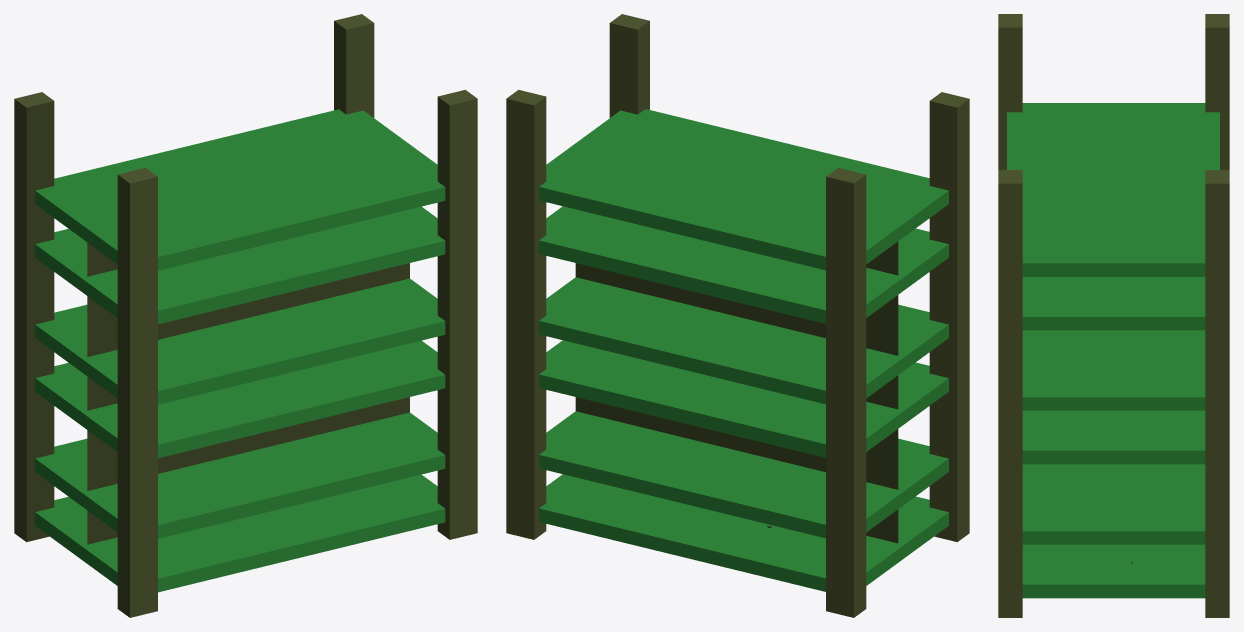
Rendered from almacen_vacio.fbx.
The picture shows the model from 3 angles, left to right: view 1: azimuth 30°, elevation 25°; view 2: azimuth 150°, elevation 25°; view 3: azimuth 270°, elevation 25°; orthographic projection.
Visible parts, largest first — view 1: almacen_vacio; view 2: almacen_vacio; view 3: almacen_vacio.
Boxes of the visible parts, box(x1,y1,x2,y2) form: almacen_vacio: box(14, 14, 477, 617); almacen_vacio: box(506, 14, 969, 617); almacen_vacio: box(998, 14, 1229, 617).
Bounding box in the file's own units: 208 × 248 × 120.
